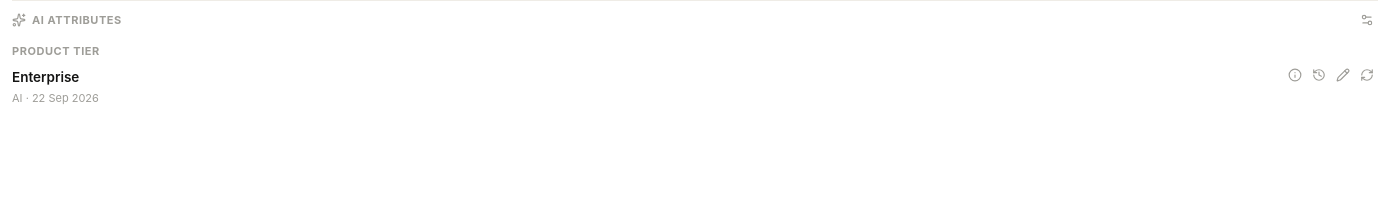
Test: AIAttributesPanel › shows the history newest first
The width and height of the screenshot is (1390, 200).
Expected: the text "Enterprise" is shown, x1=12 y1=68 x2=79 y2=84
Click the button named "History of Product tier".
click(1319, 74)  # box x1=1308 y1=64 x2=1330 y2=86
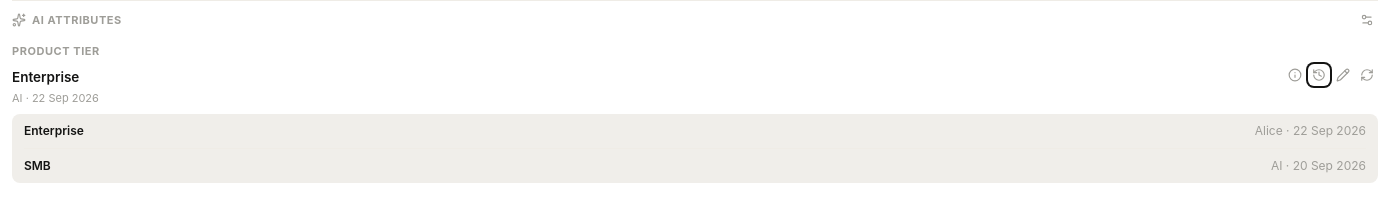
Now the number of list items is 2, box x1=24 y1=114 x2=1366 y2=149; x1=24 y1=158 x2=1366 y2=173
Now the list item "Enterprise Alice · 22 Sep 2026" is shown, box x1=24 y1=114 x2=1366 y2=149
Now the list item "SMB AI · 20 Sep 2026" is shown, box x1=24 y1=158 x2=1366 y2=173
